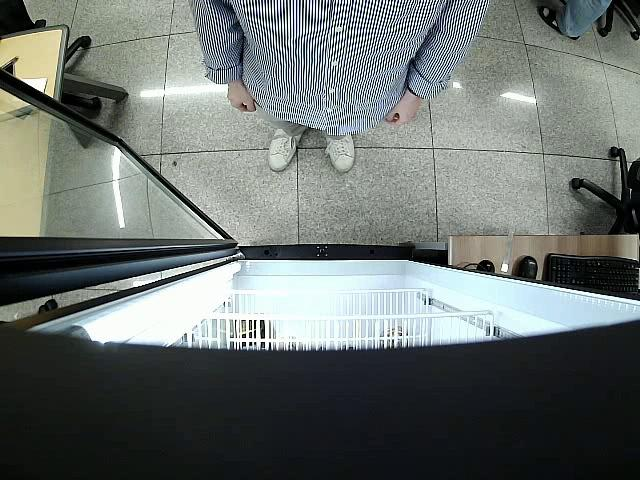00_hand: (383, 98, 417, 127), (228, 82, 257, 113)
